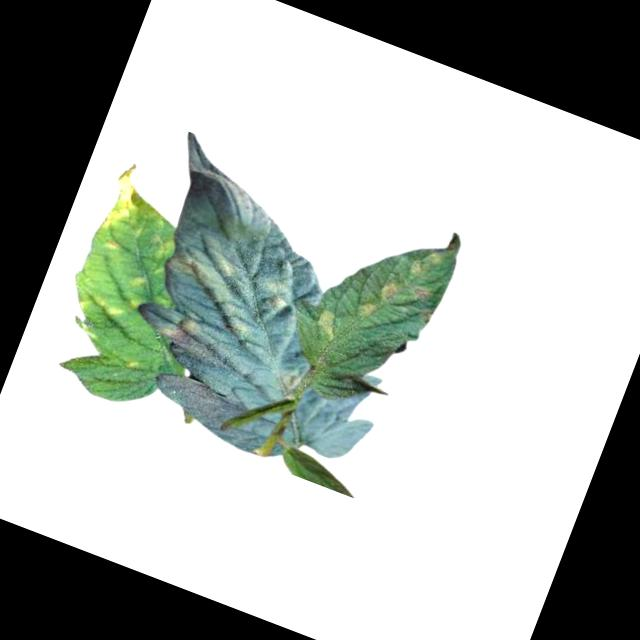Leaf_Mold: (150, 234, 271, 337), (93, 156, 173, 247), (151, 307, 232, 370), (71, 274, 141, 329), (352, 268, 401, 325), (259, 271, 299, 317), (307, 300, 346, 343), (266, 363, 306, 400)
